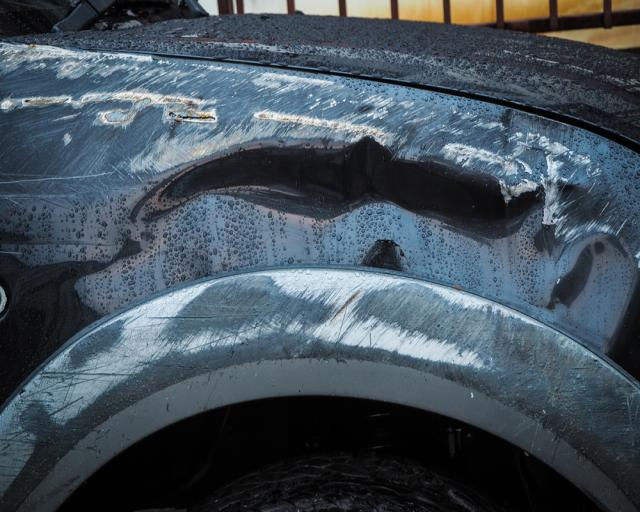dent: (141, 137, 637, 346)
scratch: (0, 264, 640, 512), (0, 40, 640, 262)
